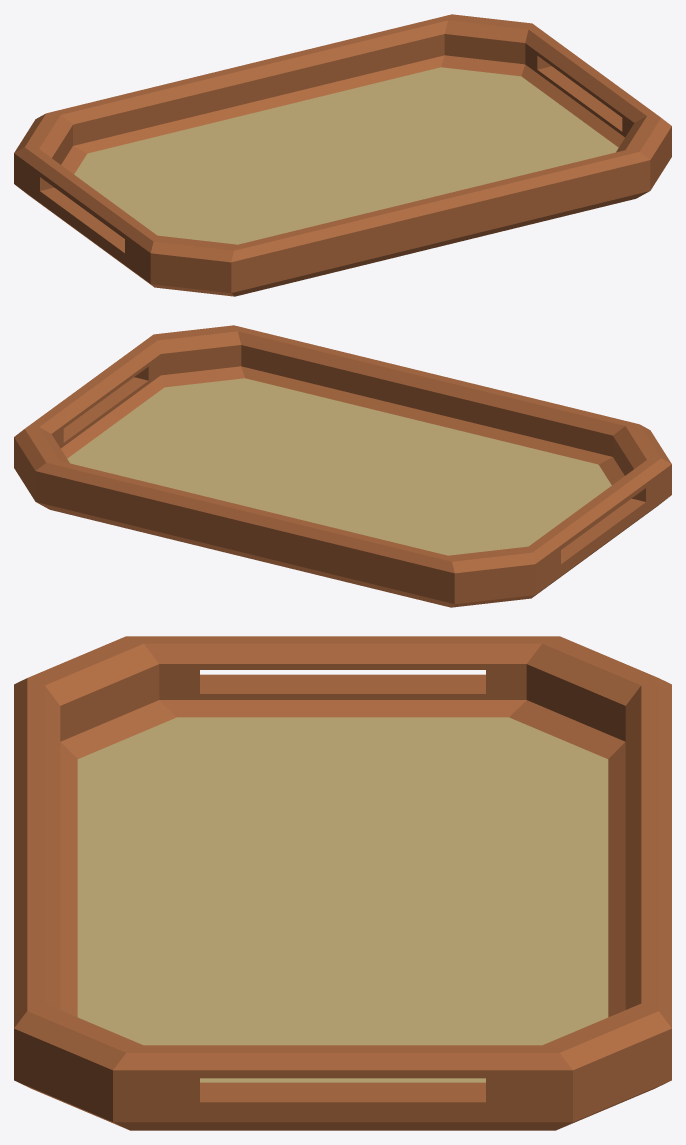
File: serving-tray-a1cf27.glb
3 renders of one model, top to bottom at view 1: azimuth 30°, elevation 25°; view 2: azimuth 150°, elevation 25°; view 3: azimuth 270°, elevation 25°, orthographic. The views are drawn at different scales.
Visible parts, largest first — view 1: tray; view 2: tray; view 3: tray.
Boxes of the visible parts, x1,y1,x2,y2 form: tray: (14, 14, 671, 296); tray: (14, 325, 671, 607); tray: (14, 636, 671, 1130).
Size of the model in its own units: 0.46 by 0.04 by 0.299.
